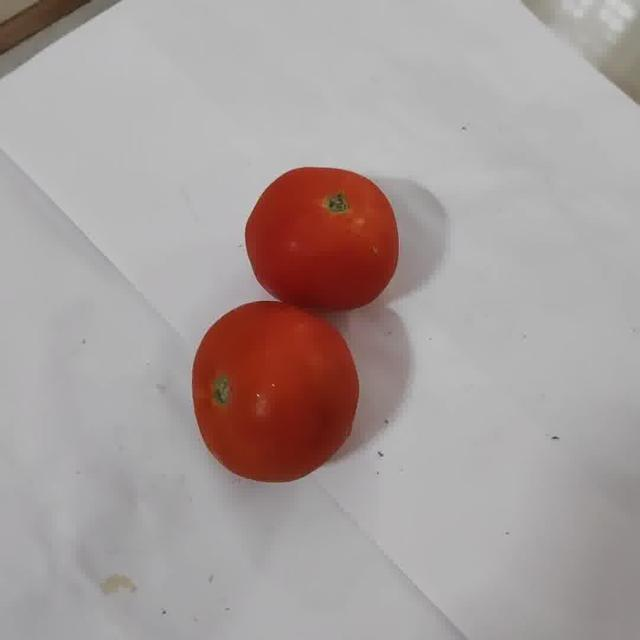Tomato: (193, 301, 359, 482), (245, 167, 399, 312)
